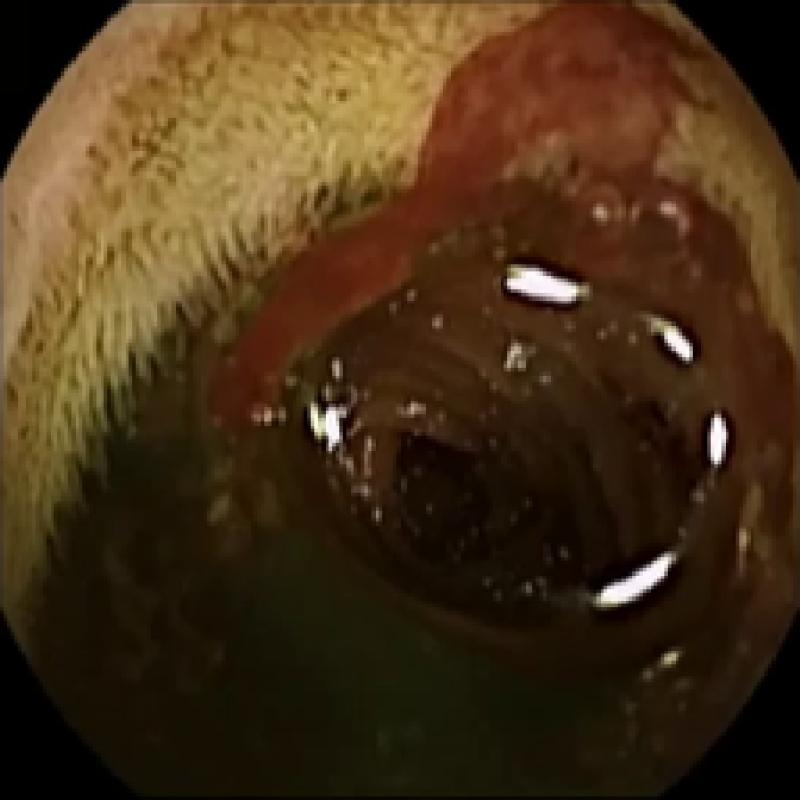bleeding: (203, 10, 800, 464)
